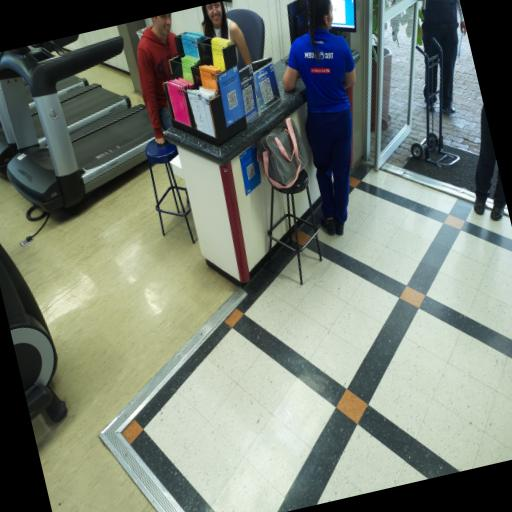person: (282, 0, 354, 235), (136, 13, 177, 145), (421, 0, 466, 115), (201, 2, 250, 64), (473, 106, 496, 215)
